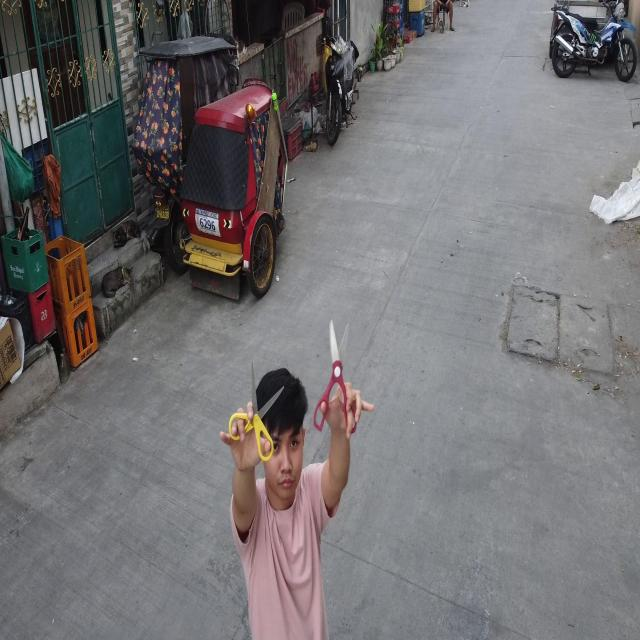scissor: (228, 362, 285, 465), (315, 320, 358, 436)
